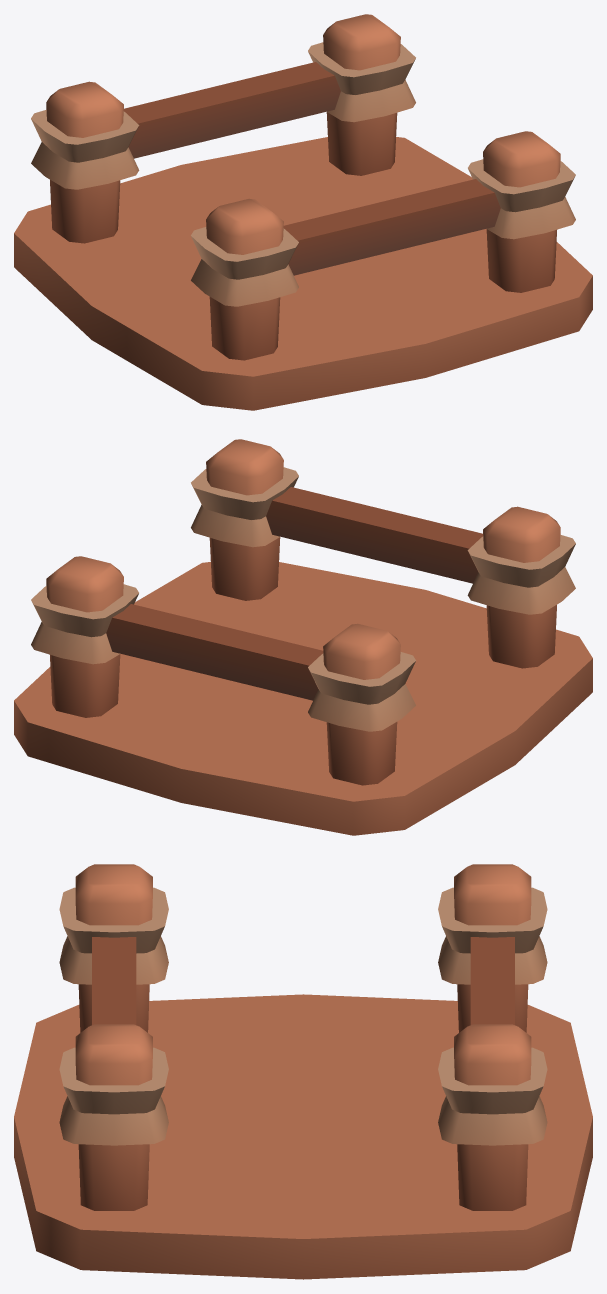
File: building-platform.glb
3 renders of one model, top to bottom at view 1: azimuth 30°, elevation 25°; view 2: azimuth 150°, elevation 25°; view 3: azimuth 270°, elevation 25°, orthographic. The views are drawn at different scales.
Visible parts, largest first — view 1: building-platform; view 2: building-platform; view 3: building-platform.
Boxes of the visible parts, left/top/right/bottom form: building-platform: left=14, top=14, right=592, bottom=410; building-platform: left=14, top=439, right=592, bottom=835; building-platform: left=14, top=864, right=592, bottom=1279.
Bounding box in the file's own units: 1.3 × 0.5 × 1.3.
